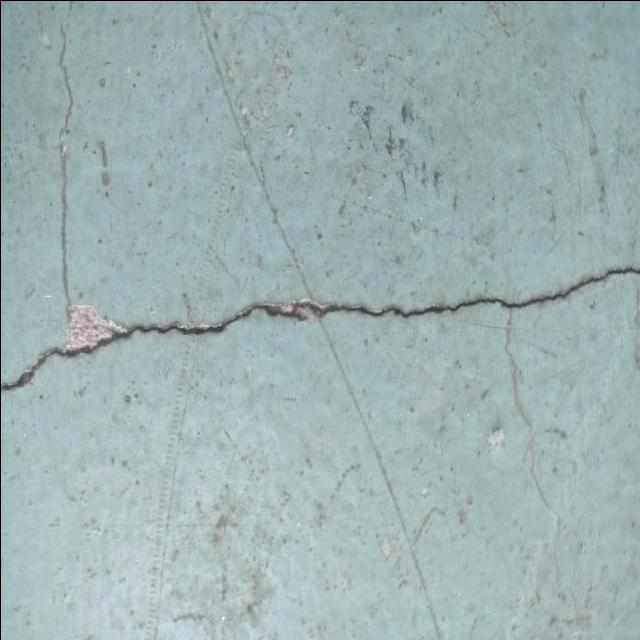SurfaceCrack: (0, 231, 639, 440)
